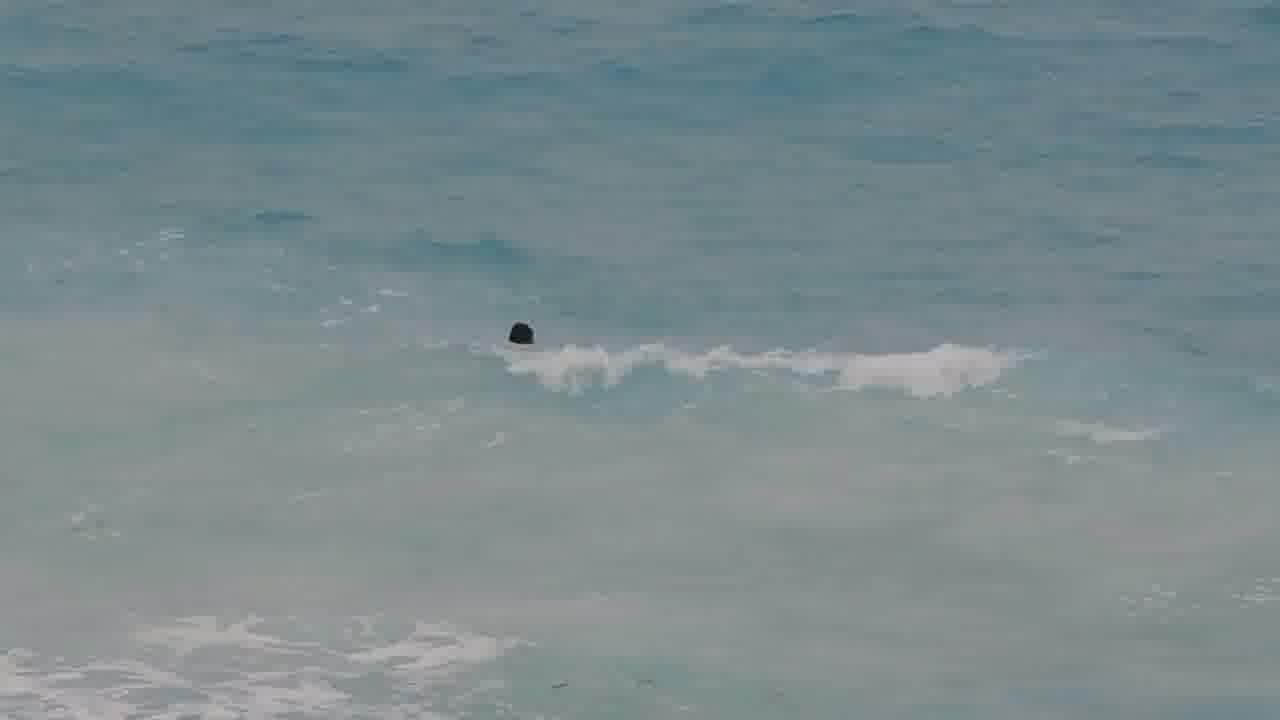swimmer: (495, 308, 549, 358)
